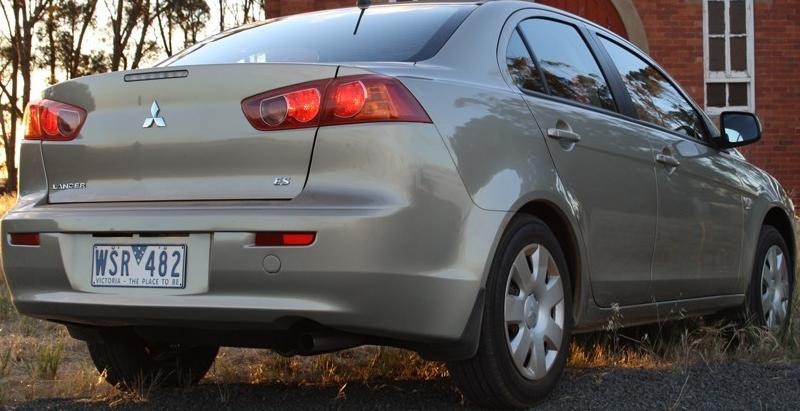back_view: (7, 78, 464, 307)
backlight: (233, 62, 413, 137)
side_glass: (515, 13, 735, 158)
